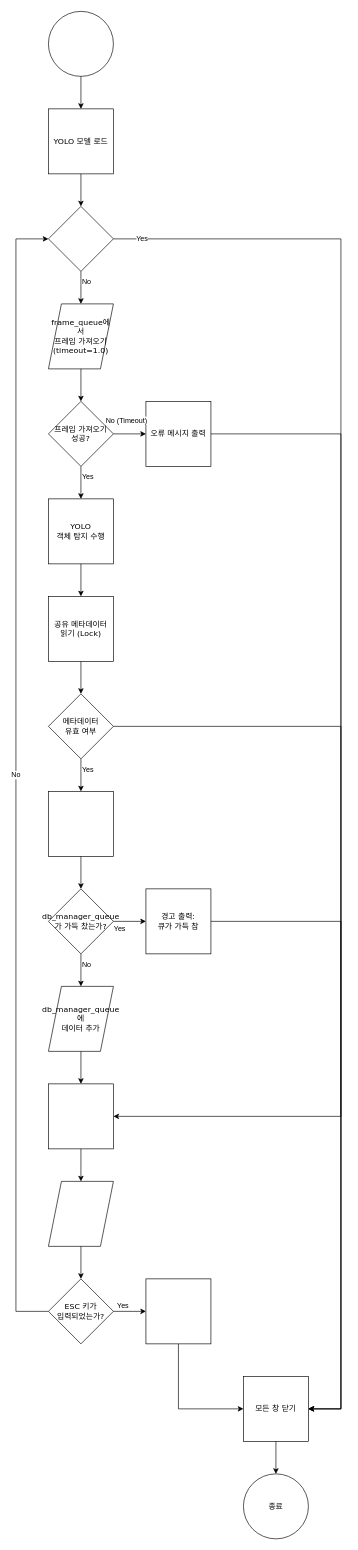
Image size: 358x1550. Some labels were removed from this diagram. The shapes that lost their labels are listed below. From the top down, each one's centre as x and y in pixels, then its label:
the point at 80,43: 시작
the point at 80,238: shutdown_event가 설정되었는가?
the point at 80,823: JSON 데이터 생성
the point at 80,1116: 탐지 결과 프레임에 시각화 (현재 코드 : 더미)
the point at 80,1213: 결과 화면에 표시
the point at 178,1311: shutdown_event 설정
